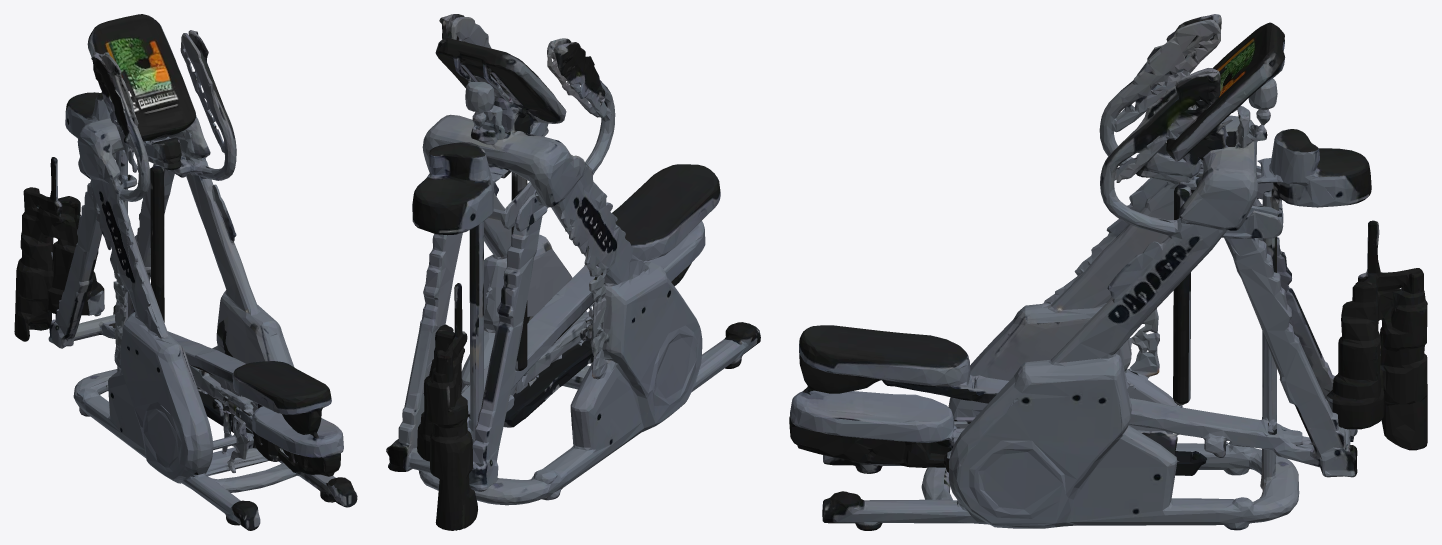
The model's file is k1-nordictrack-x16.glb.
3 renders of one model, left to right at view 1: azimuth 30°, elevation 25°; view 2: azimuth 150°, elevation 25°; view 3: azimuth 270°, elevation 25°, orthographic. The views are drawn at different scales.
Parts seen in each view (by area): view 1: demo_textured.obj; view 2: demo_textured.obj; view 3: demo_textured.obj.
Part boxes in pixels (x1=…): demo_textured.obj: x1=14, y1=14, x2=357, y2=530; demo_textured.obj: x1=386, y1=14, x2=760, y2=530; demo_textured.obj: x1=789, y1=14, x2=1427, y2=530.
Size of the model in its own units: 0.5552 by 1.58 by 1.97.
1 material, 1 textured.
